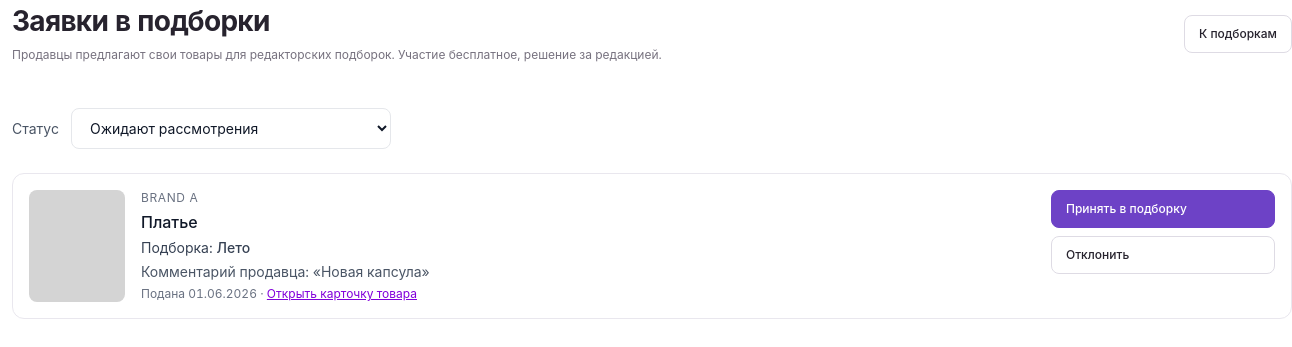
Test: AdminCollectionSubmissions › accepts a submission and refreshes the list
Click the button with test id "accept-s1": click(1163, 209) [1051, 190, 1275, 228]
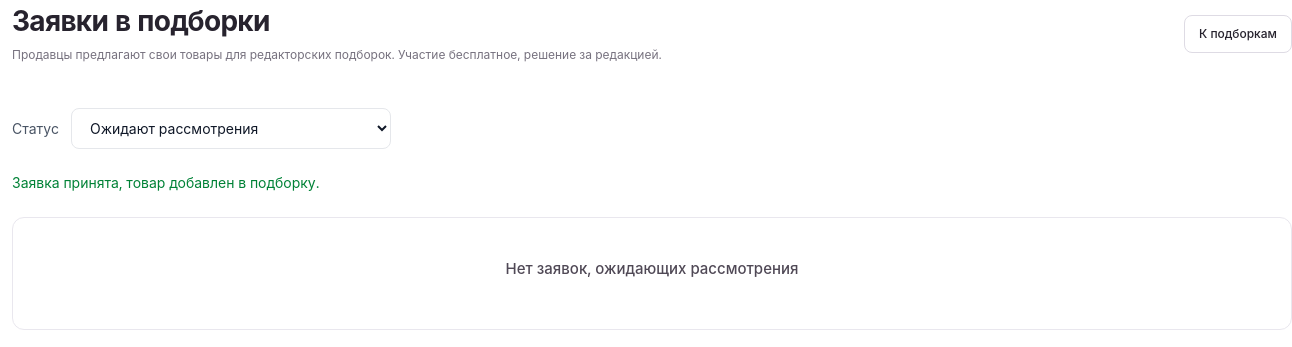
Expected: the message shows "добавлен в подборку", [12, 174, 320, 191]
Expected: the list item with test id "submission-s1" is gone
